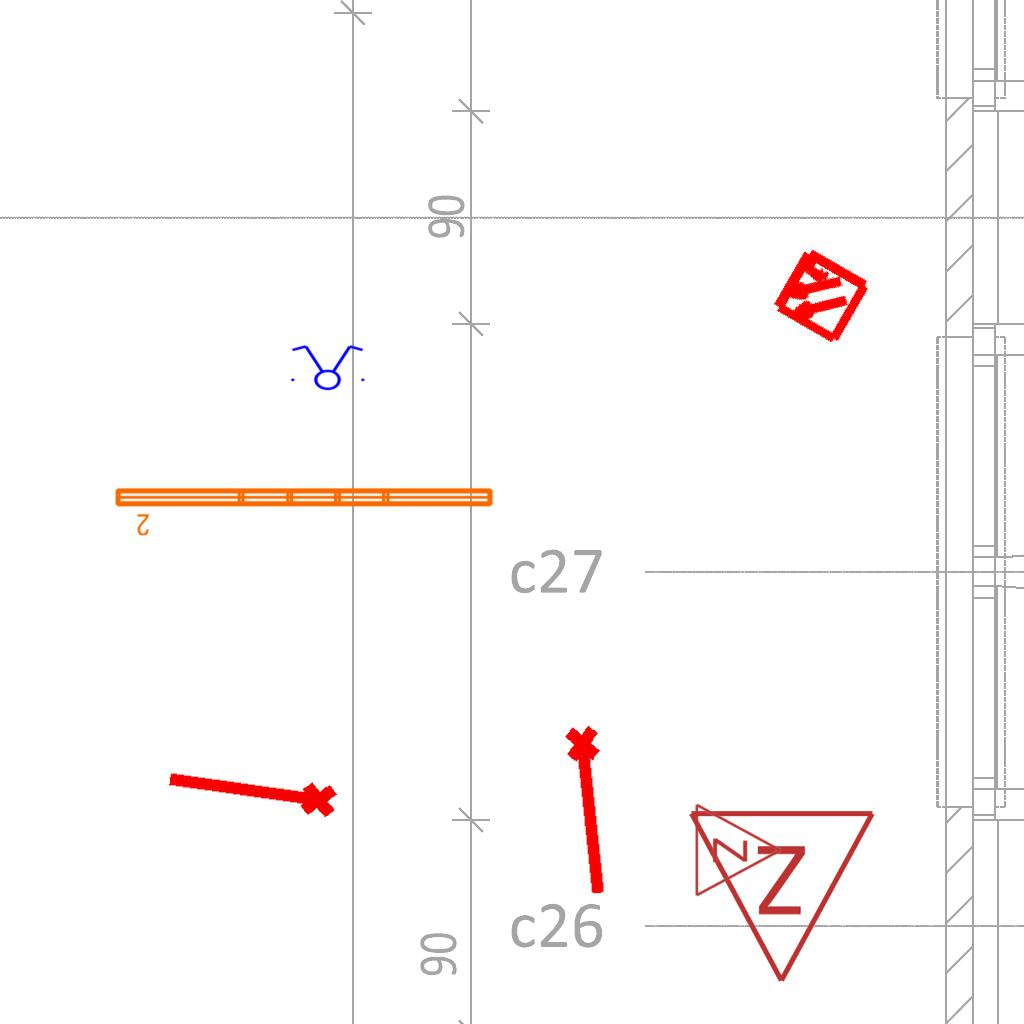ASR_Ansaugoeffnung: (160, 757, 342, 829), (559, 721, 625, 901)
Ambulanz_Pendelleuchte_LED: (111, 482, 498, 538)
OT_Multisensormelder_(Kombination_RMO_WMD): (742, 217, 897, 372)
Serienschalter: (285, 343, 369, 391)
Zimmersignalleuchte: (686, 796, 882, 996), (688, 800, 788, 898)
